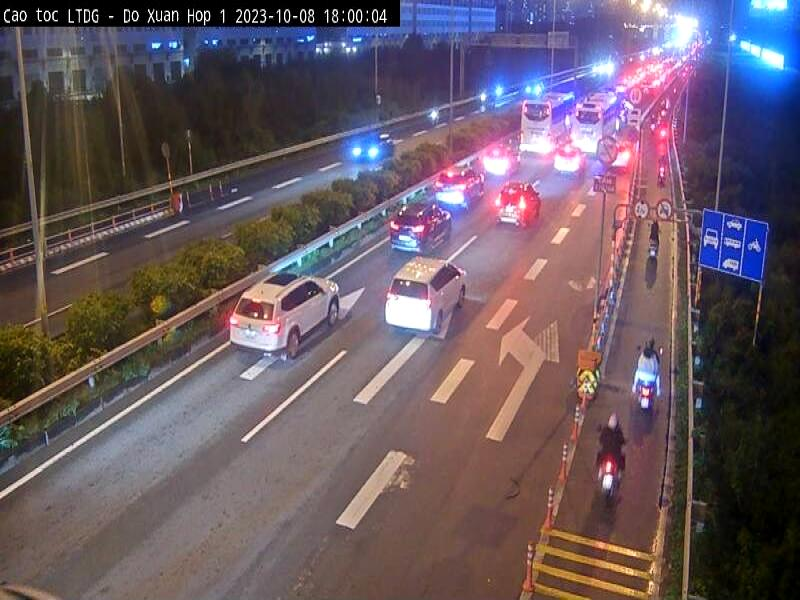car: (231, 273, 338, 358), (387, 254, 470, 334), (393, 200, 450, 251)
